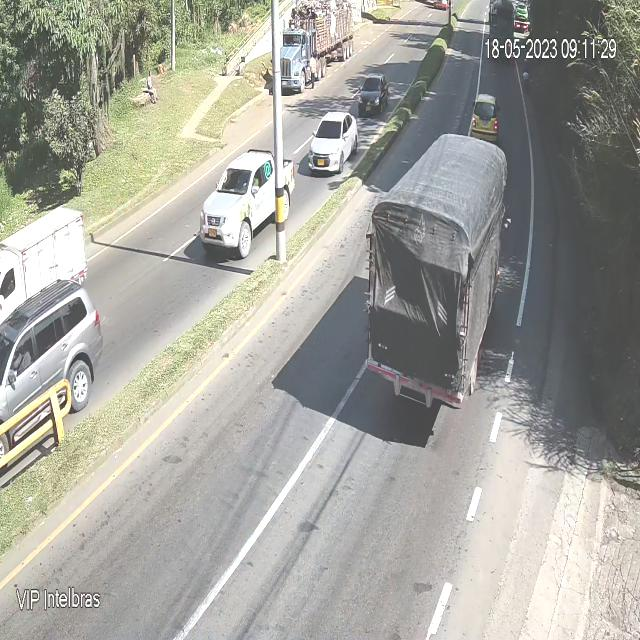CMT: (198, 150, 293, 260)
